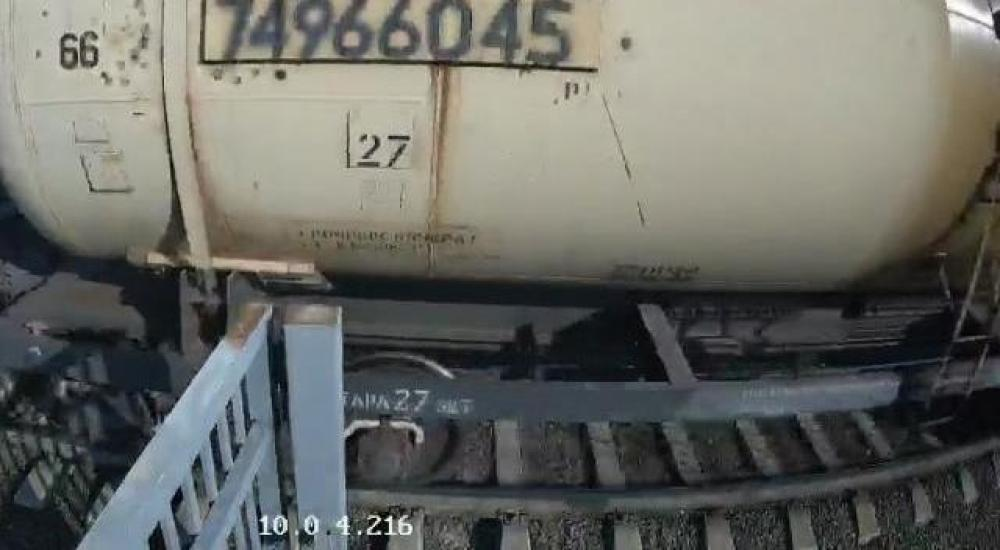Wagon-number: (213, 0, 574, 66)
